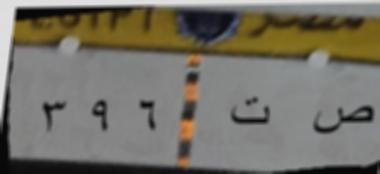3: (36, 95, 69, 140)
6: (134, 91, 162, 136)
9: (85, 91, 114, 138)
saad: (310, 94, 374, 142)
taa: (224, 94, 274, 135)
